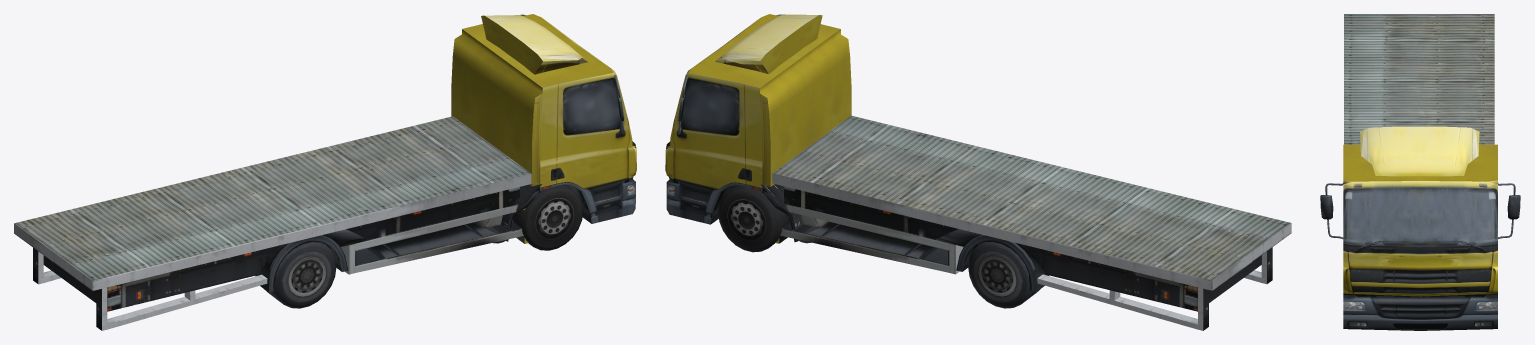
The model's file is lorry.obj.
3 renders of one model, left to right at view 1: azimuth 30°, elevation 25°; view 2: azimuth 150°, elevation 25°; view 3: azimuth 270°, elevation 25°, orthographic. The views are drawn at different scales.
Visible parts, largest first — view 1: lorry; view 2: lorry; view 3: lorry.
Boxes of the visible parts, x1,y1,x2,y2 form: lorry: [14, 14, 636, 330]; lorry: [665, 14, 1291, 330]; lorry: [1320, 14, 1520, 330].
Size of the model in its own units: 432 by 142 by 141.
1 material, 1 textured.
